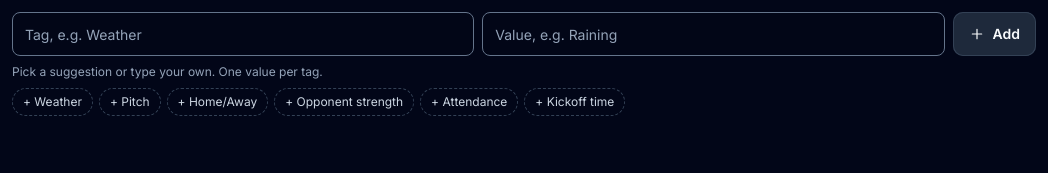
Test case: TagInput › adds, replaces a key’s value, and removes
Type "weather" into the field labelled "Tag" at x=243, y=34, box [12,12,474,56]
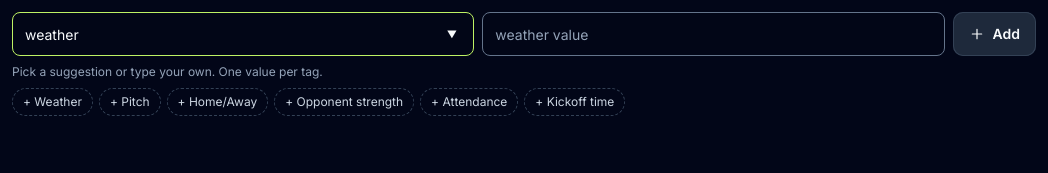
Type "raining" into the field labelled "value" at x=713, y=34, box [482,12,945,56]
Then press Enter
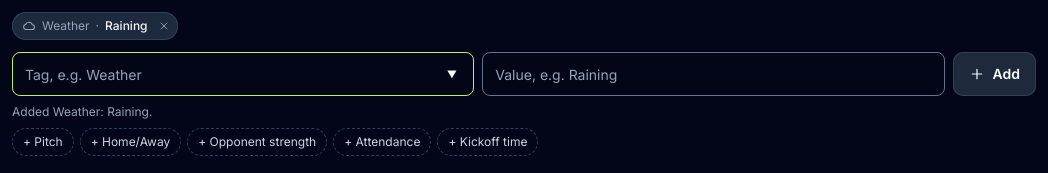
Result: the text "Added Weather: Raining." is shown at [12,104,152,119]
Type "Weather" into the field labelled "Tag" at x=243, y=74, box [12,52,474,96]
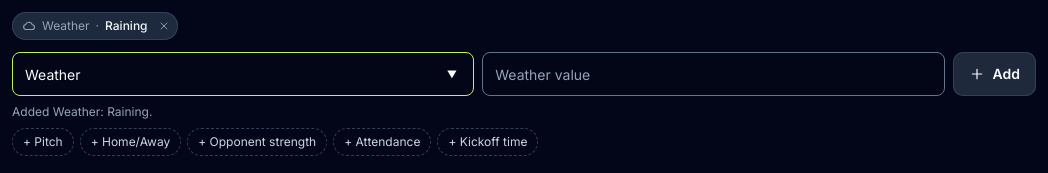
Type "Sunny" into the field labelled "value" at x=713, y=74, box [482,52,945,96]
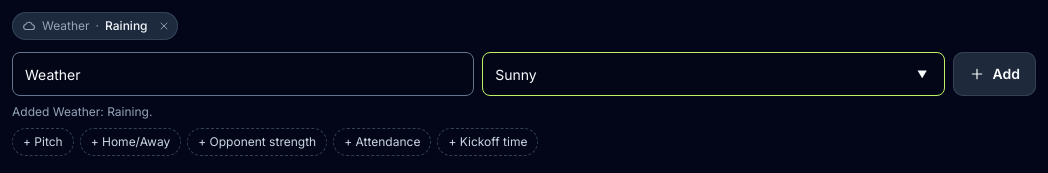
Click the button "Add" at x=994, y=74, box [952,52,1036,96]
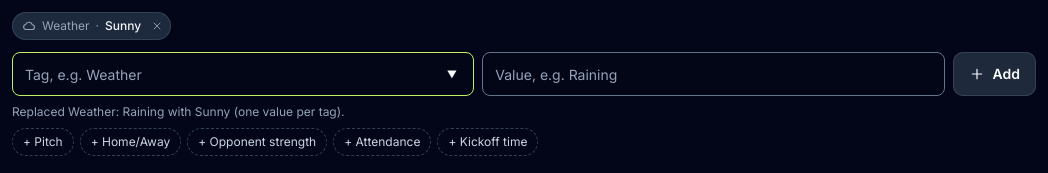
Result: the number of list items is 1 at [12,12,171,40]
Result: the text "Replaced Weather: Raining with Sunny (one value per tag)." is shown at [12,104,345,119]
Click the button named "Remove Weather: Sunny" at x=157, y=26, box [149,18,165,34]
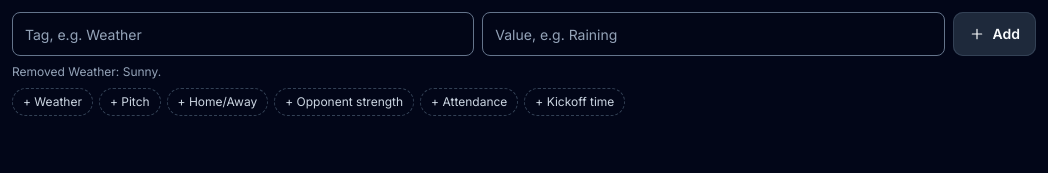
Result: the text "Removed Weather: Sunny." is shown at [12,64,161,79]
